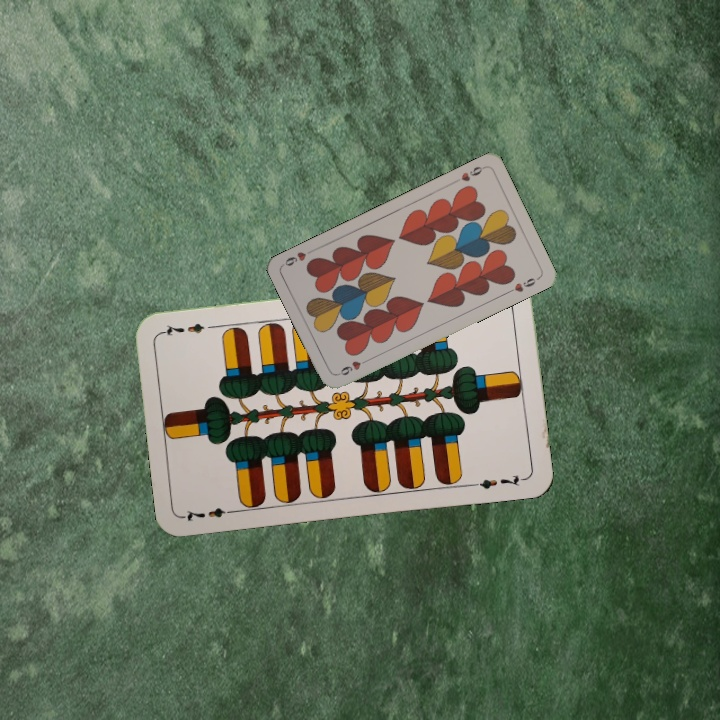E7: (180, 503, 239, 524)
H9: (450, 162, 488, 186), (333, 355, 371, 378)
